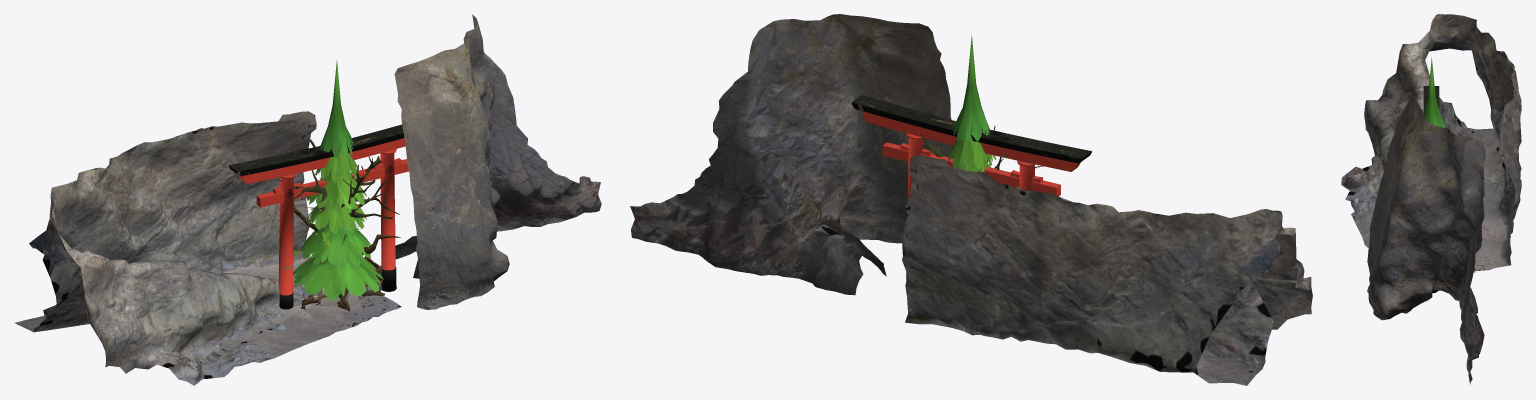
Rendered from road-kit.glb.
3 views of the same model, side by side, from view 1: azimuth 30°, elevation 25°; view 2: azimuth 150°, elevation 25°; view 3: azimuth 270°, elevation 25° (orthographic). The views are drawn at different scales.
Parts seen in each view (by area): view 1: KIT_rockface, KIT_pine, KIT_torii, KIT_deadtree, KIT_deadtree2; view 2: KIT_rockface, KIT_torii, KIT_pine; view 3: KIT_rockface, KIT_pine, KIT_torii.
Part boxes in pixels (box(x1,y1,x2,y2)): KIT_rockface: box(15, 14, 601, 385); KIT_pine: box(293, 60, 383, 301); KIT_torii: box(228, 124, 408, 309); KIT_deadtree: box(274, 139, 396, 311); KIT_deadtree2: box(293, 179, 400, 314); KIT_rockface: box(630, 14, 1312, 385); KIT_torii: box(851, 95, 1091, 279); KIT_pine: box(948, 34, 996, 172); KIT_rockface: box(1341, 14, 1521, 384); KIT_pine: box(1423, 57, 1445, 128); KIT_torii: box(1423, 86, 1439, 292).
Bounding box in the file's own units: 23.49 × 9.5 × 7.33.
Materials: 14 (14 with a texture image).
